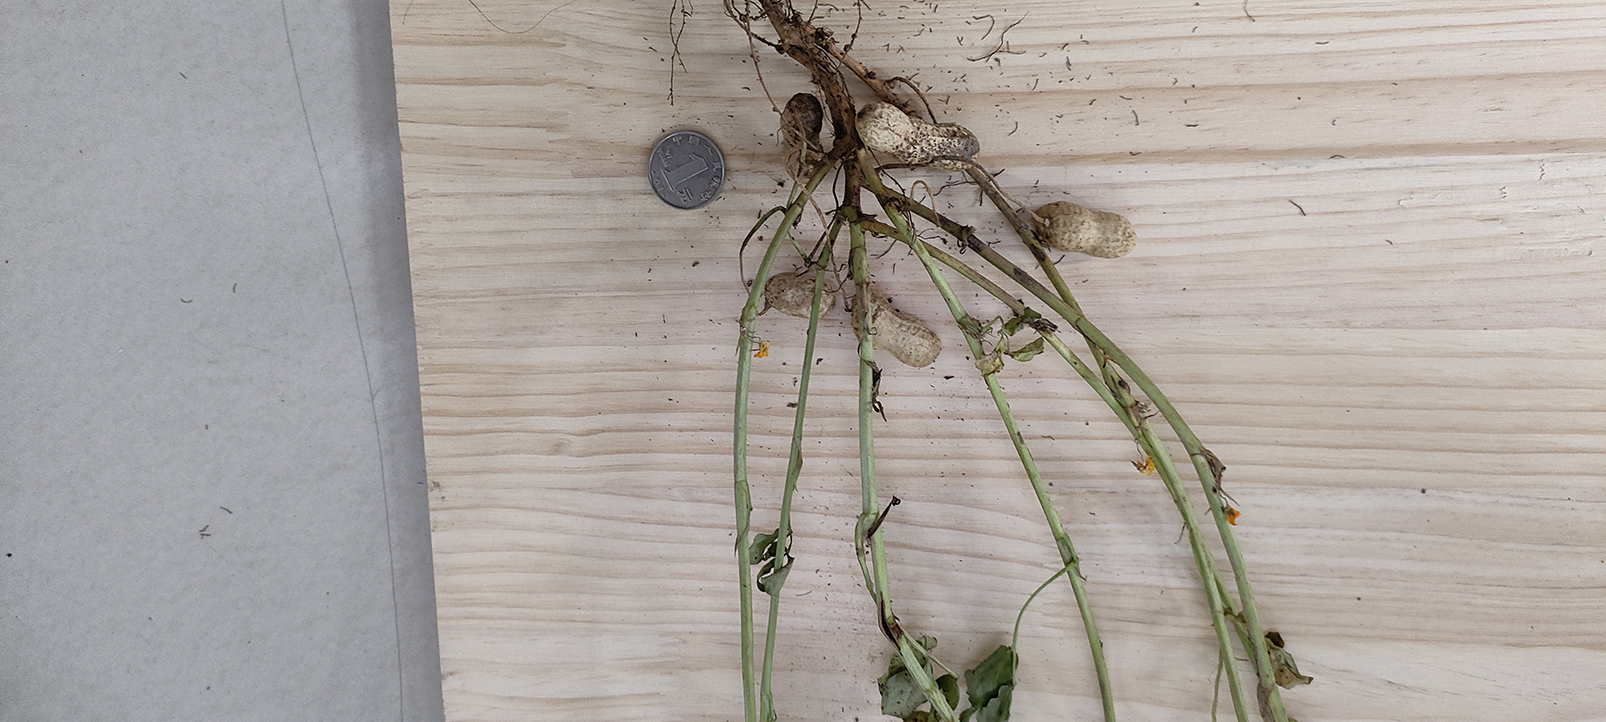h: (855, 102, 980, 171), (852, 290, 942, 368), (1033, 202, 1138, 258)
l: (780, 91, 826, 182), (765, 275, 835, 318)
